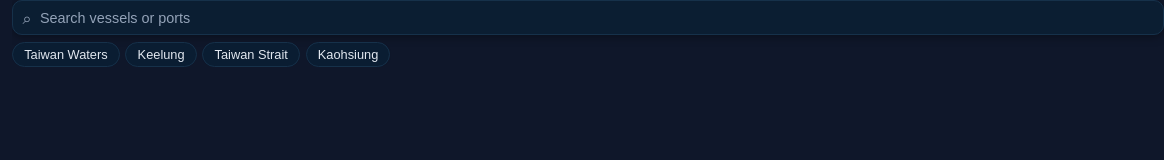
it: SearchControl › shows a no-results message when nothing matches
The width and height of the screenshot is (1164, 160).
Step 1. Type "zzzzz-no-match" into the search field with class "search-input" → (596, 18), box [38,9,1154,27]
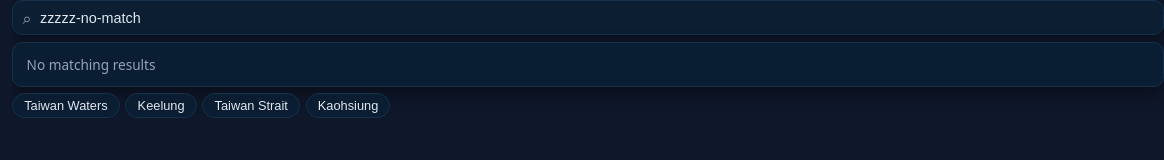
Expected: the list item with class "search-empty" reads "No matching results", [27,55,156,74]
